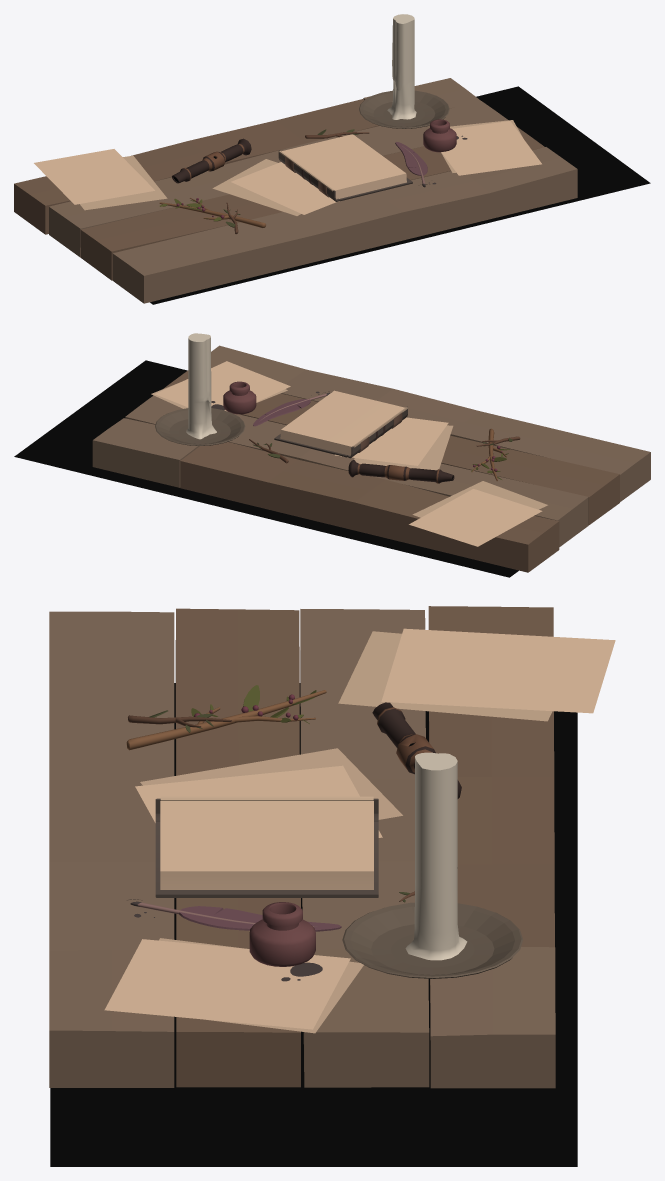
Rendered from main_menu_MESA.fbx.
The picture shows the model from 3 angles, top to bottom: view 1: azimuth 30°, elevation 25°; view 2: azimuth 150°, elevation 25°; view 3: azimuth 270°, elevation 25°; orthographic projection. The views are drawn at different scales.
Parts seen in each view (by area): view 1: objetos_imoveis; view 2: objetos_imoveis; view 3: objetos_imoveis.
Boxes of the visible parts, bbox=[...] form: objetos_imoveis: bbox=[14, 14, 650, 304]; objetos_imoveis: bbox=[14, 333, 650, 577]; objetos_imoveis: bbox=[49, 606, 615, 1166].
Bounding box in the file's own units: 3785 × 924 × 1827.
